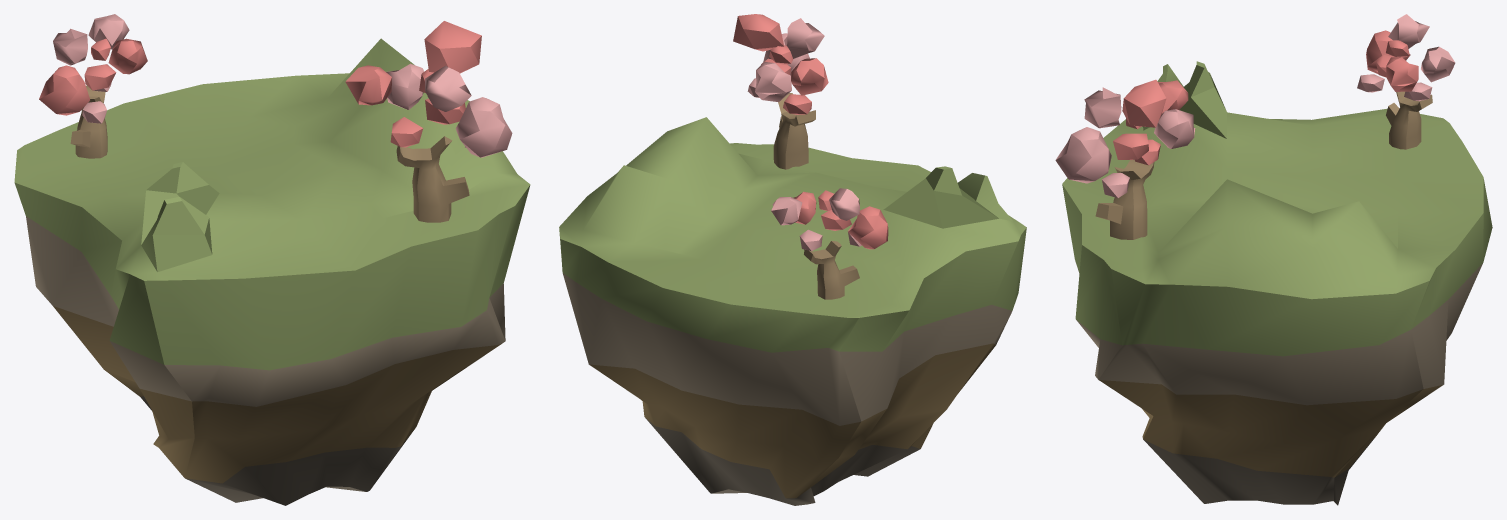
Rendered from ground2.fbx.
The picture shows the model from 3 angles, left to right: view 1: azimuth 30°, elevation 25°; view 2: azimuth 150°, elevation 25°; view 3: azimuth 270°, elevation 25°; orthographic projection. The views are drawn at different scales.
Visible parts, largest first — view 1: pCube4, polySurface13, polySurface15, pCylinder20, polySurface24, polySurface11, polySurface22, polySurface10, polySurface16, polySurface25, polySurface20, polySurface19 (+3 smaller); view 2: pCube4, polySurface13, polySurface22, pCylinder20, polySurface24, polySurface16, polySurface10, polySurface11, polySurface20, polySurface19; view 3: pCube4, polySurface13, polySurface15, polySurface22, pCylinder20, polySurface16, polySurface11, polySurface25, polySurface19, polySurface12, polySurface20, polySurface24 (+2 smaller).
Part boxes in pixels (x1,y1,x2,y2): pCube4: (14, 38, 530, 505); polySurface13: (396, 136, 469, 222); polySurface15: (455, 97, 512, 157); pCylinder20: (424, 21, 481, 73); polySurface24: (39, 65, 89, 115); polySurface11: (425, 65, 471, 111); polySurface22: (70, 85, 107, 158); polySurface10: (345, 65, 391, 105); polySurface16: (386, 63, 424, 109); polySurface25: (108, 38, 147, 74); polySurface20: (53, 28, 87, 65); polySurface19: (88, 14, 129, 49); pCube4: (559, 117, 1026, 505); polySurface13: (773, 93, 815, 169); polySurface22: (804, 241, 859, 299); pCylinder20: (733, 14, 784, 51); polySurface24: (848, 206, 888, 249); polySurface16: (755, 61, 791, 102); polySurface10: (791, 58, 828, 95); polySurface11: (784, 18, 824, 58); polySurface20: (829, 188, 859, 220); polySurface19: (771, 197, 802, 225); pCube4: (1062, 61, 1492, 505); polySurface13: (1095, 159, 1154, 239); polySurface15: (1055, 127, 1111, 183); polySurface22: (1386, 91, 1432, 149); pCylinder20: (1122, 79, 1166, 127); polySurface16: (1154, 109, 1195, 148); polySurface11: (1084, 87, 1121, 128); polySurface25: (1386, 57, 1418, 91); polySurface19: (1421, 46, 1455, 82); polySurface12: (1113, 133, 1148, 159); polySurface20: (1388, 14, 1429, 48); polySurface24: (1366, 30, 1410, 74).
Bounding box in the file's own units: 8.05 × 8.52 × 7.55.
